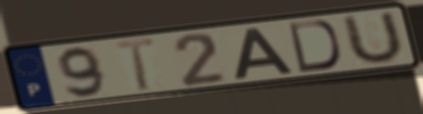2: (172, 31, 231, 89)
9: (55, 44, 110, 99)
A: (232, 26, 296, 81)
D: (285, 18, 343, 74)
T: (112, 36, 158, 94)
U: (341, 8, 406, 67)
